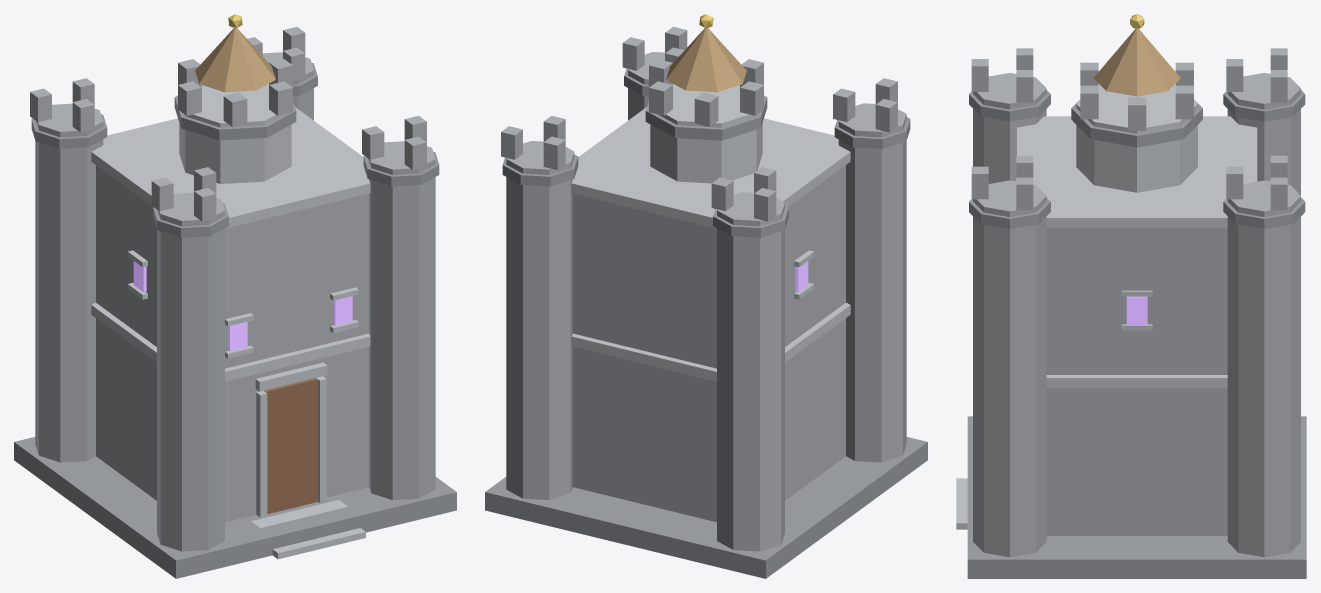
Rendered from castle_keep.glb.
3 views of the same model, side by side, from view 1: azimuth 30°, elevation 25°; view 2: azimuth 150°, elevation 25°; view 3: azimuth 270°, elevation 25° (orthographic). The views are drawn at different scales.
Visible parts, largest first — view 1: main_walls, corner_tower, corner_tower.002, corner_tower.001, plinth, string_course.001, great_tower, door_leaf, spire, string_course, great_band, door_jamb (+17 smaller); view 2: main_walls, corner_tower.001, corner_tower.003, corner_tower, plinth, string_course.001, great_tower, spire, string_course, great_band, tower_band.003, tower_band (+12 smaller); view 3: main_walls, corner_tower.002, corner_tower.003, string_course.001, plinth, great_tower, corner_tower, corner_tower.001, spire, string_course, great_band, tower_band.003 (+16 smaller).
Part boxes in pixels (x1=…): main_walls: x1=96, y1=165, x2=369, y2=522; corner_tower: x1=157, y1=192, x2=224, y2=551; corner_tower.002: x1=368, y1=141, x2=435, y2=500; corner_tower.001: x1=35, y1=103, x2=103, y2=462; plinth: x1=14, y1=437, x2=456, y2=578; string_course.001: x1=91, y1=107, x2=370, y2=228; great_tower: x1=179, y1=84, x2=291, y2=183; door_leaf: x1=264, y1=378, x2=318, y2=514; spire: x1=195, y1=28, x2=275, y2=92; string_course: x1=91, y1=302, x2=370, y2=381; great_band: x1=174, y1=95, x2=296, y2=140; door_jamb: x1=256, y1=391, x2=267, y2=517; main_walls: x1=572, y1=165, x2=845, y2=522; corner_tower.001: x1=717, y1=192, x2=784, y2=551; corner_tower.003: x1=506, y1=141, x2=574, y2=500; corner_tower: x1=838, y1=103, x2=906, y2=462; plinth: x1=485, y1=437, x2=927, y2=578; string_course.001: x1=571, y1=107, x2=850, y2=228; great_tower: x1=650, y1=84, x2=762, y2=183; spire: x1=666, y1=28, x2=746, y2=92; string_course: x1=571, y1=302, x2=850, y2=381; great_band: x1=645, y1=95, x2=767, y2=140; tower_band.003: x1=502, y1=154, x2=578, y2=186; tower_band: x1=834, y1=117, x2=910, y2=148; main_walls: x1=1046, y1=228, x2=1227, y2=535; corner_tower.002: x1=973, y1=180, x2=1046, y2=557; corner_tower.003: x1=1227, y1=180, x2=1300, y2=557; string_course.001: x1=1017, y1=116, x2=1257, y2=227; plinth: x1=967, y1=416, x2=1306, y2=578; great_tower: x1=1076, y1=84, x2=1197, y2=192; corner_tower: x1=973, y1=73, x2=1046, y2=183; corner_tower.001: x1=1227, y1=73, x2=1300, y2=195; spire: x1=1093, y1=29, x2=1180, y2=96; string_course: x1=1046, y1=375, x2=1227, y2=388; great_band: x1=1071, y1=99, x2=1202, y2=147; tower_band.003: x1=1223, y1=197, x2=1305, y2=229.
Size of the model in its own units: 4.8 by 7.7 by 4.96.
